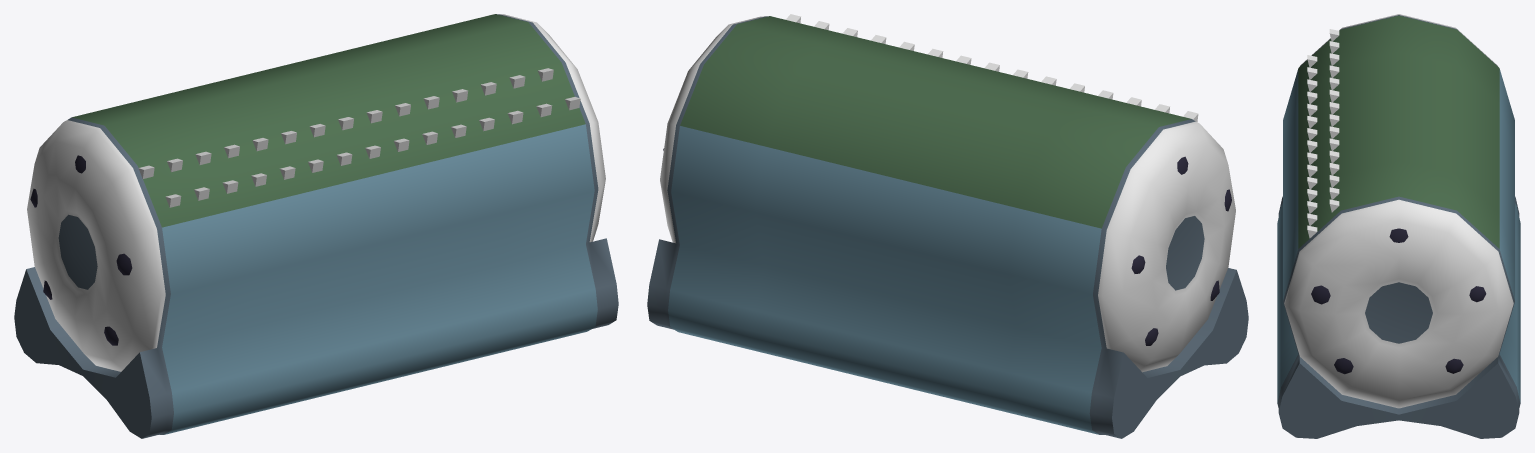
The model's file is IHS7421171.FBX.
3 renders of one model, left to right at view 1: azimuth 30°, elevation 25°; view 2: azimuth 150°, elevation 25°; view 3: azimuth 270°, elevation 25°, orthographic. The views are drawn at different scales.
Visible parts, largest first — view 1: IHS7421171; view 2: IHS7421171; view 3: IHS7421171.
Boxes of the visible parts, x1,y1,x2,y2 form: IHS7421171: (14,14,618,438); IHS7421171: (647,14,1248,438); IHS7421171: (1277,14,1520,438).
Bounding box in the file's own units: 73.15 × 38.35 × 36.07.
